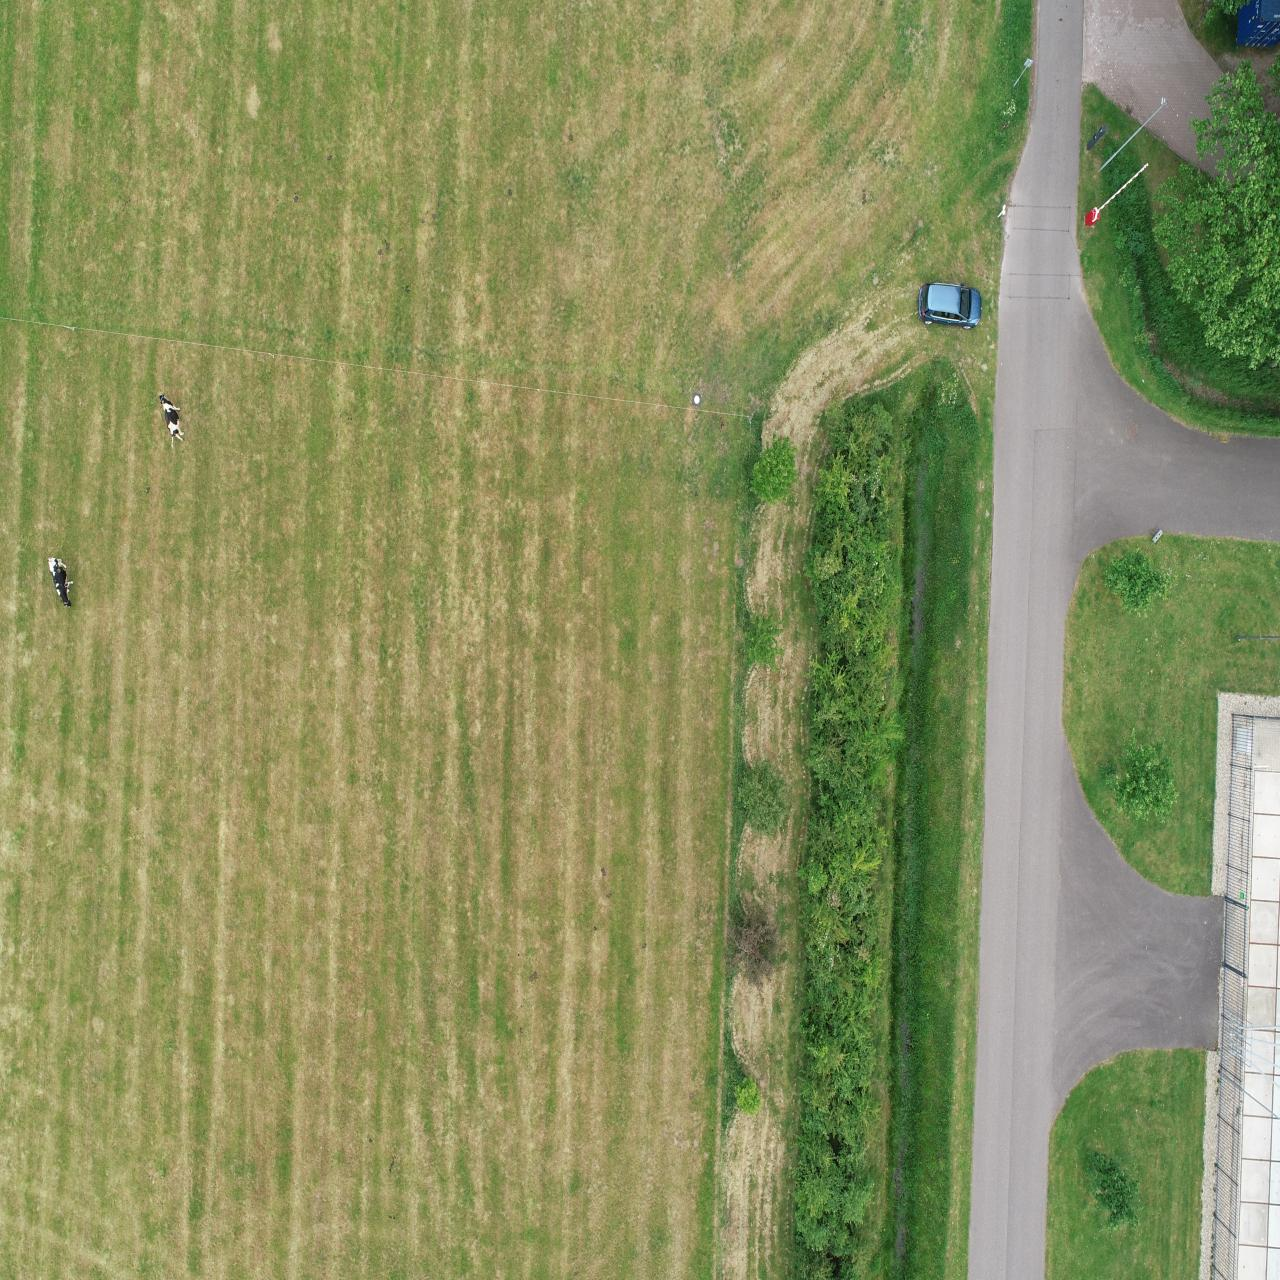cow: (1193, 983, 1223, 1026)
